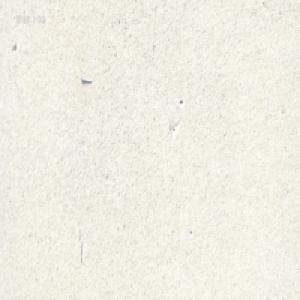Nail: (79, 74, 92, 83)
